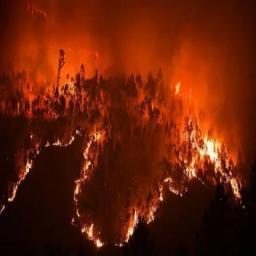Heavy smoke: (0, 3, 256, 83)
Large fire: (168, 77, 246, 209)
Small fire: (80, 120, 164, 248), (5, 137, 46, 216), (36, 111, 89, 156), (7, 86, 83, 117)
